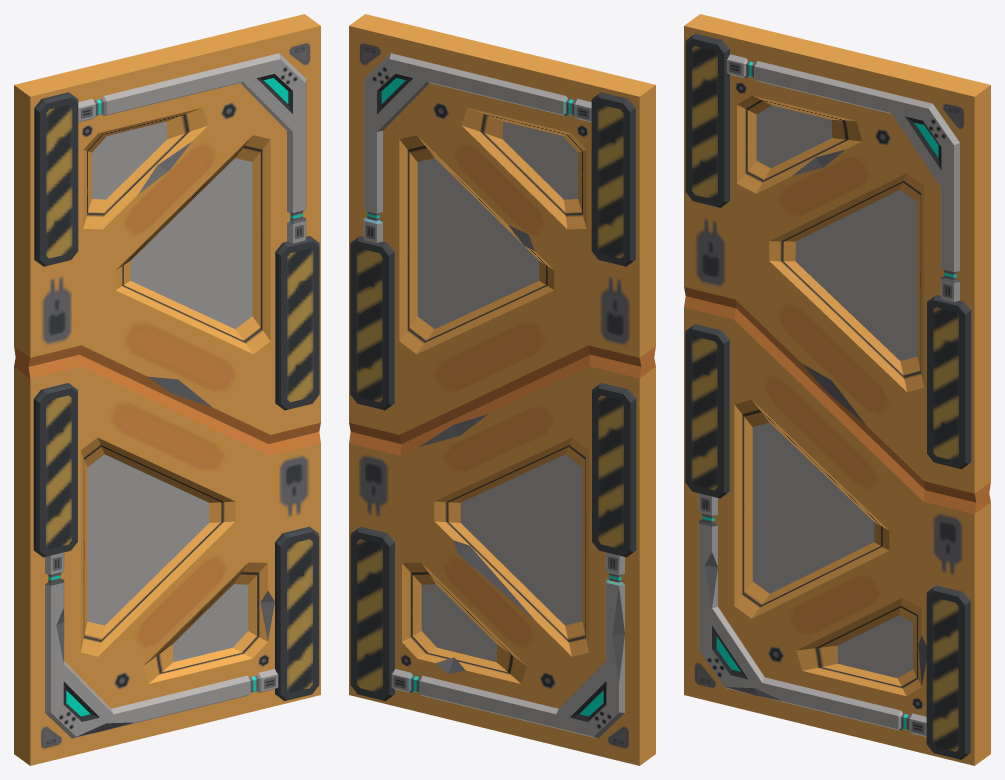
File: SM_Bld_Door_NoFrame_Single_Large_02.fbx
3 renders of one model, left to right at view 1: azimuth 30°, elevation 25°; view 2: azimuth 150°, elevation 25°; view 3: azimuth 330°, elevation 25°, orthographic.
Visible parts, largest first — view 1: SM_Bld_Door_NoFrame_Single_Large_02; view 2: SM_Bld_Door_NoFrame_Single_Large_02; view 3: SM_Bld_Door_NoFrame_Single_Large_02.
Boxes of the visible parts, x1=… form: SM_Bld_Door_NoFrame_Single_Large_02: x1=14, y1=14, x2=320, y2=765; SM_Bld_Door_NoFrame_Single_Large_02: x1=349, y1=14, x2=655, y2=765; SM_Bld_Door_NoFrame_Single_Large_02: x1=684, y1=14, x2=990, y2=765.
Size of the model in its own units: 112 by 247 by 16.17.
